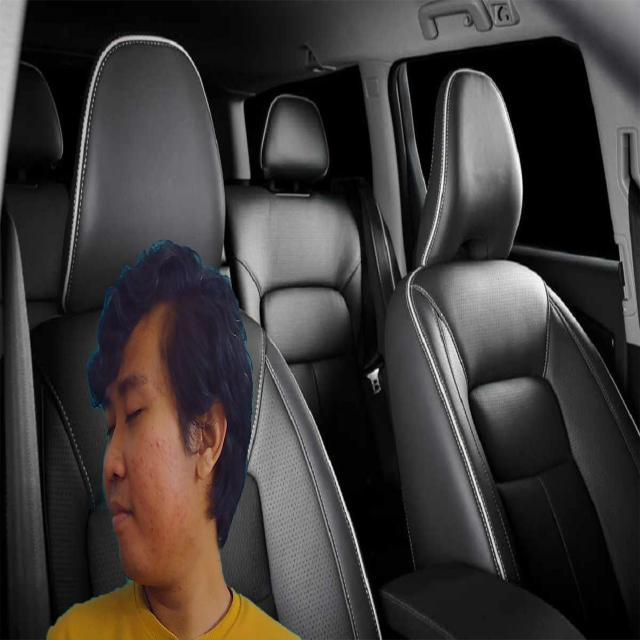no-seatbelt: (93, 281, 202, 594)
